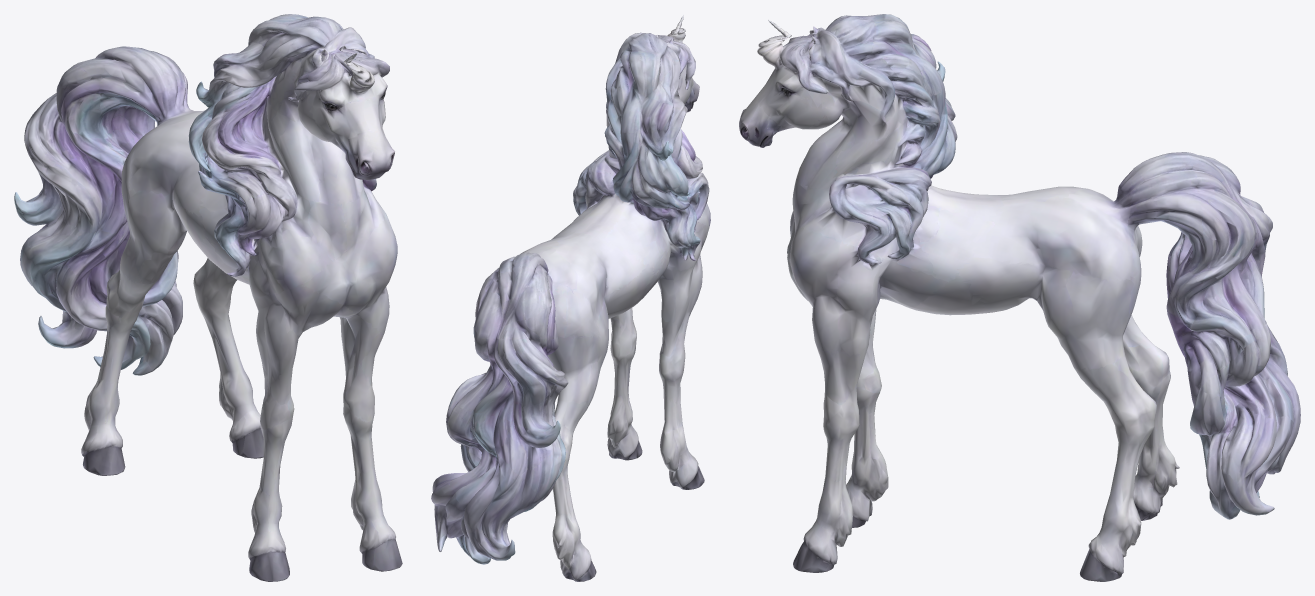
The model's file is foal.glb.
3 views of the same model, side by side, from view 1: azimuth 30°, elevation 25°; view 2: azimuth 150°, elevation 25°; view 3: azimuth 270°, elevation 25° (orthographic). The views are drawn at different scales.
Visible parts, largest first — view 1: Lumi_Foal_Static; view 2: Lumi_Foal_Static; view 3: Lumi_Foal_Static.
Boxes of the visible parts, box(x1,y1,x2,y2) form: Lumi_Foal_Static: box(14, 14, 402, 581); Lumi_Foal_Static: box(431, 14, 710, 581); Lumi_Foal_Static: box(739, 14, 1300, 581).
Bounding box in the file's own units: 0.3767 × 1.09 × 1.06.
Materials: 1 (1 with a texture image).
